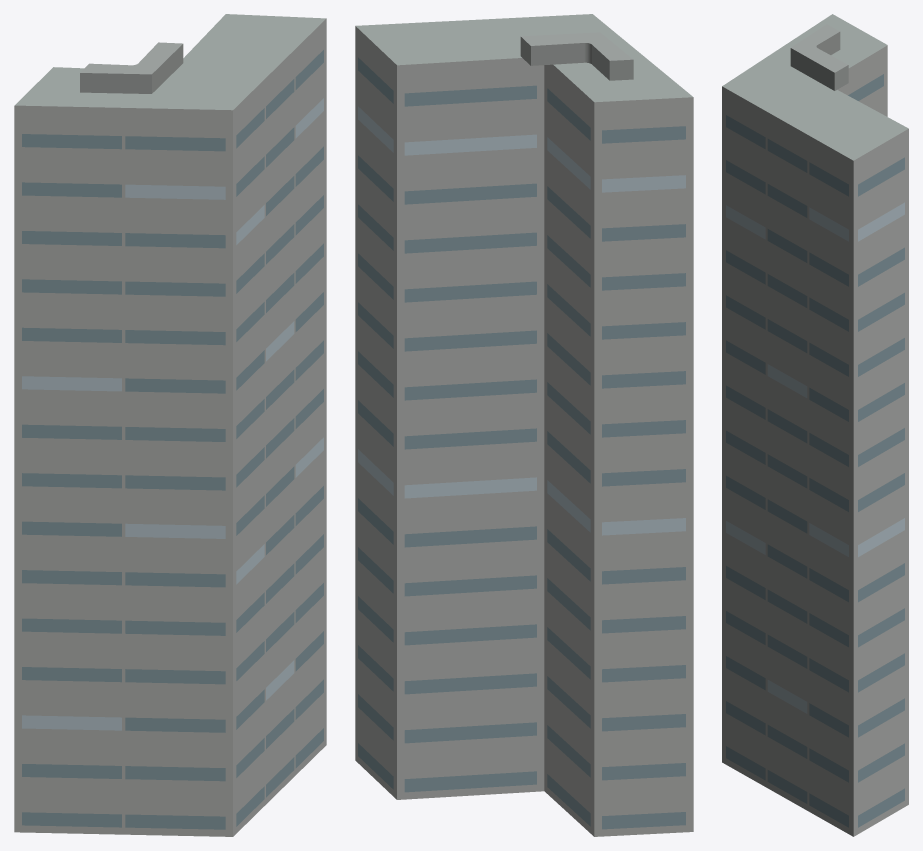
The model's file is fallback-jamsil-ricenz-248.glb.
3 renders of one model, left to right at view 1: azimuth 30°, elevation 25°; view 2: azimuth 150°, elevation 25°; view 3: azimuth 270°, elevation 25°, orthographic. The views are drawn at different scales.
Parts seen in each view (by area): view 1: fallback-jamsil-ricenz-248; view 2: fallback-jamsil-ricenz-248; view 3: fallback-jamsil-ricenz-248.
Boxes of the visible parts, x1,y1,x2,y2 form: fallback-jamsil-ricenz-248: [14, 14, 326, 836]; fallback-jamsil-ricenz-248: [355, 14, 693, 836]; fallback-jamsil-ricenz-248: [722, 14, 908, 836].
Bounding box in the file's own units: 41.25 × 91 × 22.19.
